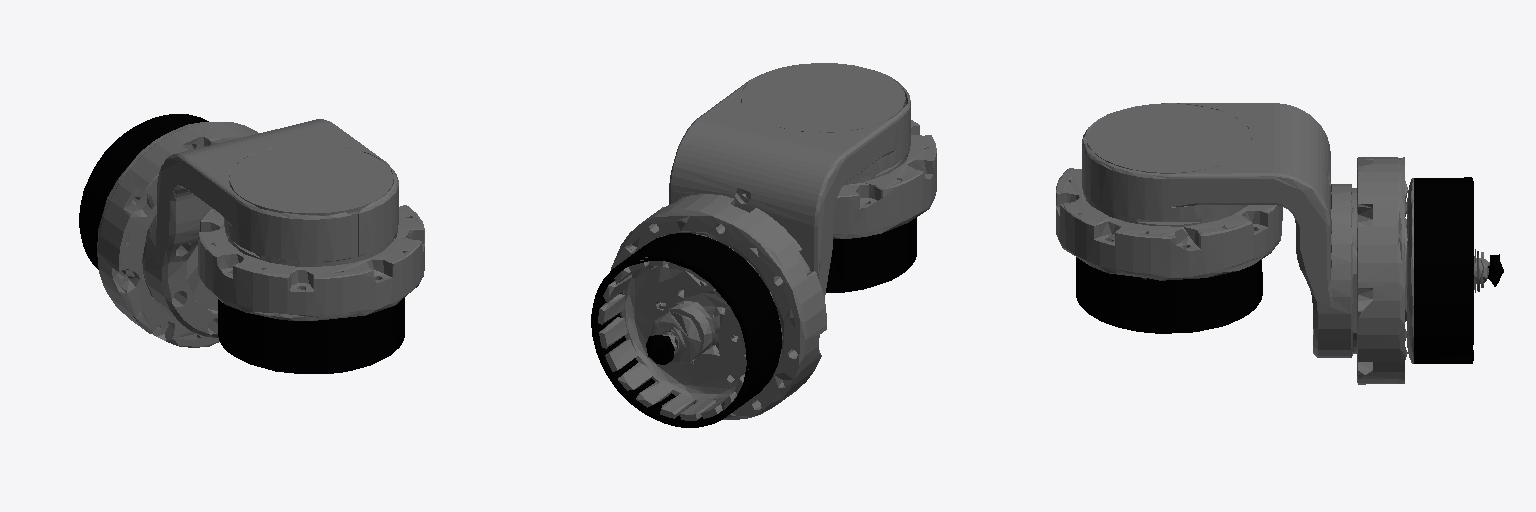
File: left_lower_arm_pitch_link.obj
3 renders of one model, left to right at view 1: azimuth 30°, elevation 25°; view 2: azimuth 150°, elevation 25°; view 3: azimuth 270°, elevation 25°, orthographic.
Parts seen in each view (by area): view 1: left_lower_arm_pitch_link; view 2: left_lower_arm_pitch_link; view 3: left_lower_arm_pitch_link.
Part boxes in pixels (bbox=[...]): left_lower_arm_pitch_link: bbox=[79, 114, 424, 373]; left_lower_arm_pitch_link: bbox=[591, 63, 936, 427]; left_lower_arm_pitch_link: bbox=[1056, 103, 1503, 384].
Size of the model in its own units: 0.052 by 0.0595 by 0.1026.